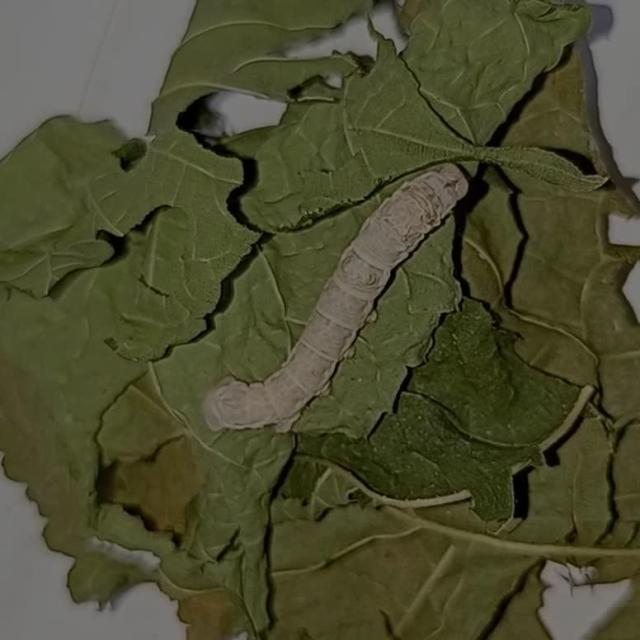Healthy: (188, 146, 486, 447)
